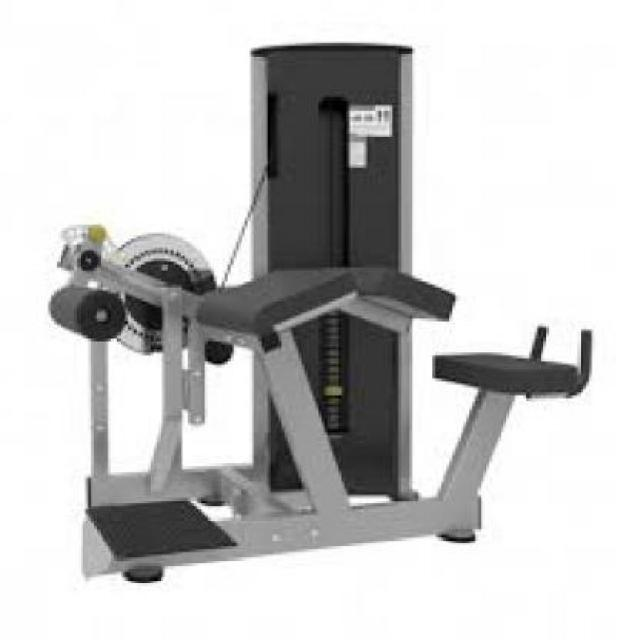reg curl machine: (44, 37, 602, 585)
